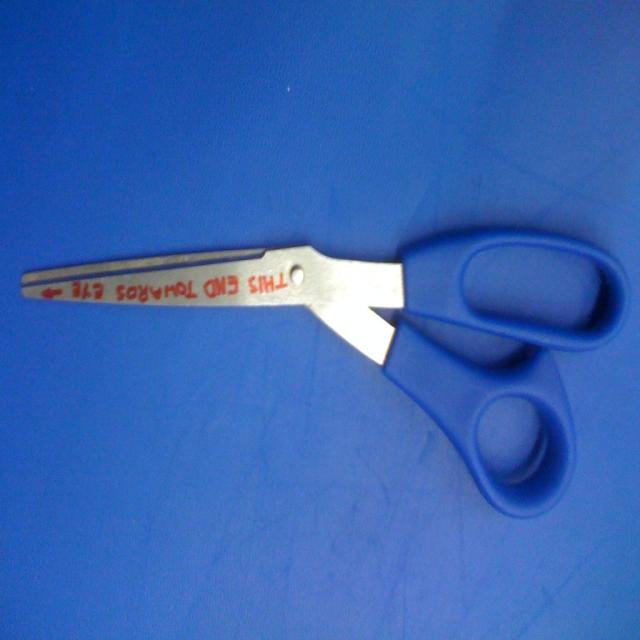scissors: (20, 227, 628, 518)
